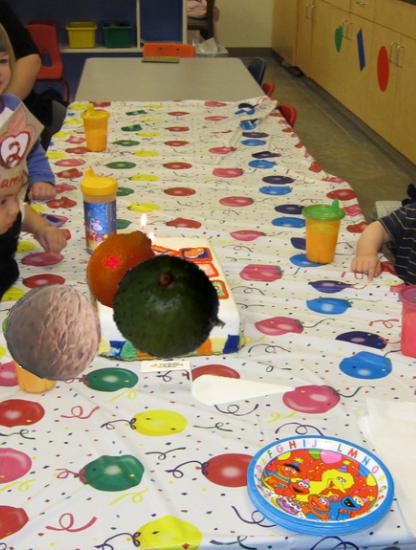Avocado: (114, 252, 226, 364)
Tangelo: (83, 228, 166, 311)
Walnut: (6, 282, 104, 380)
